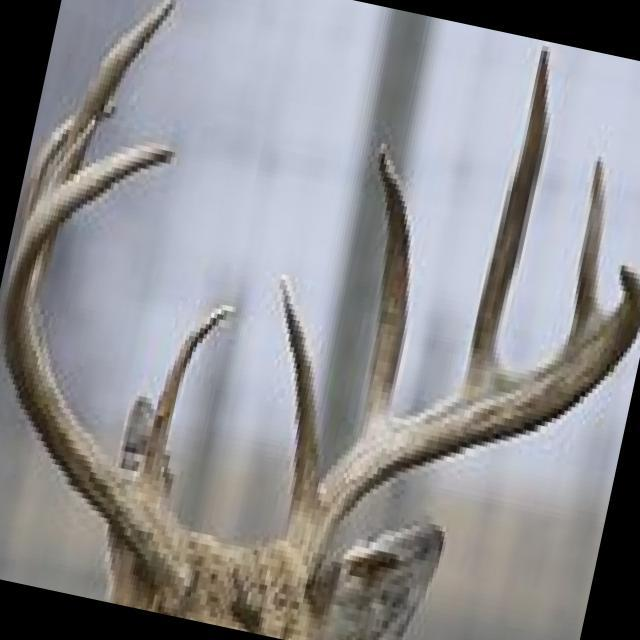L-F: (271, 262, 640, 603)
L-G1: (279, 274, 320, 518)
L-G2: (351, 142, 410, 438)
L-G3: (460, 49, 551, 391)
R-F: (4, 144, 191, 613)
R-G1: (142, 305, 235, 482)
